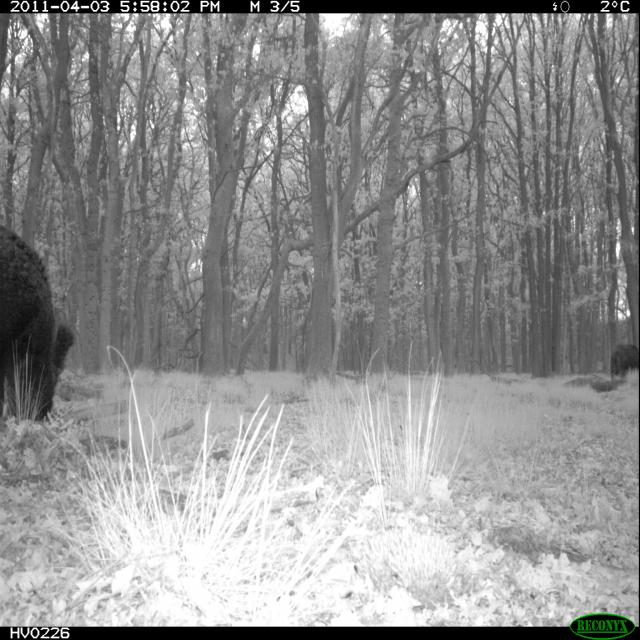boar: (0, 204, 83, 448), (597, 326, 640, 381)
